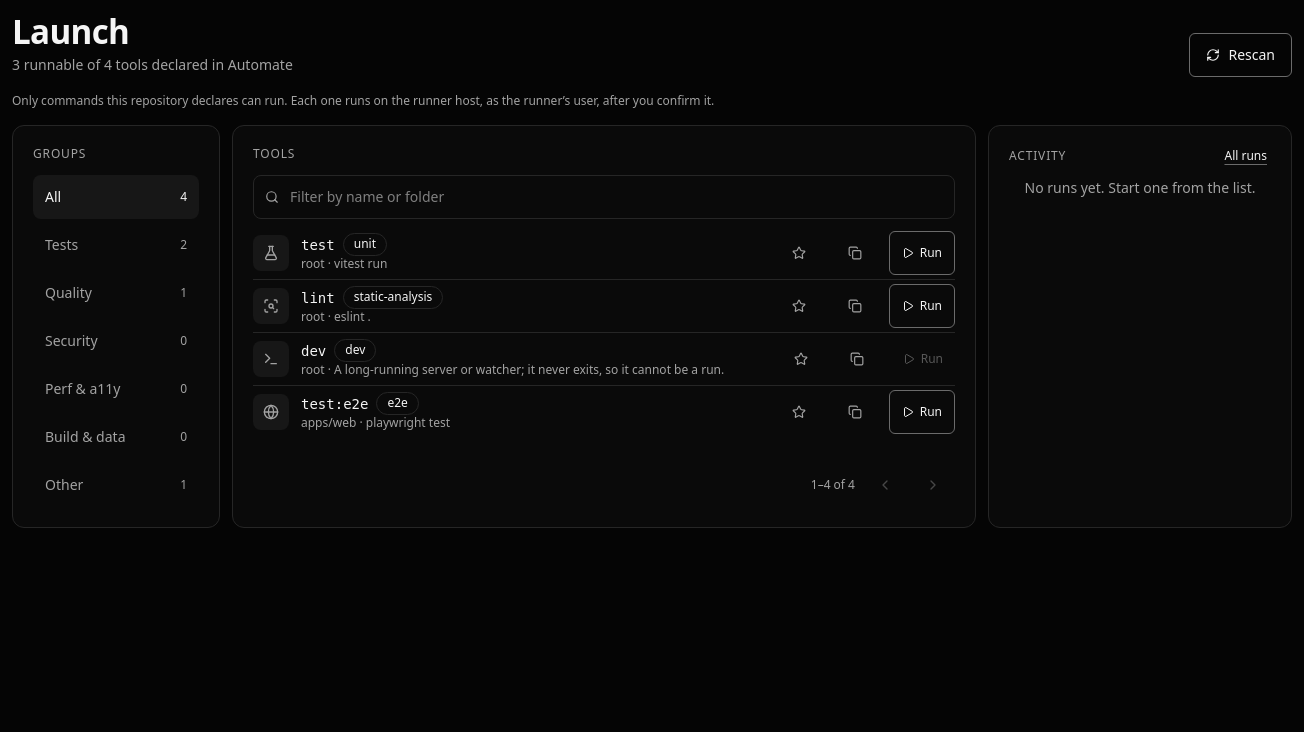
Test: the runner, as a daily tool › copies the command line of a tool
Expected: the list item with test id "tool-script:.:lint" is shown, [253,280,955,333]
Click the button named "Copy pnpm run lint" at (855, 306), box [833,284,877,328]
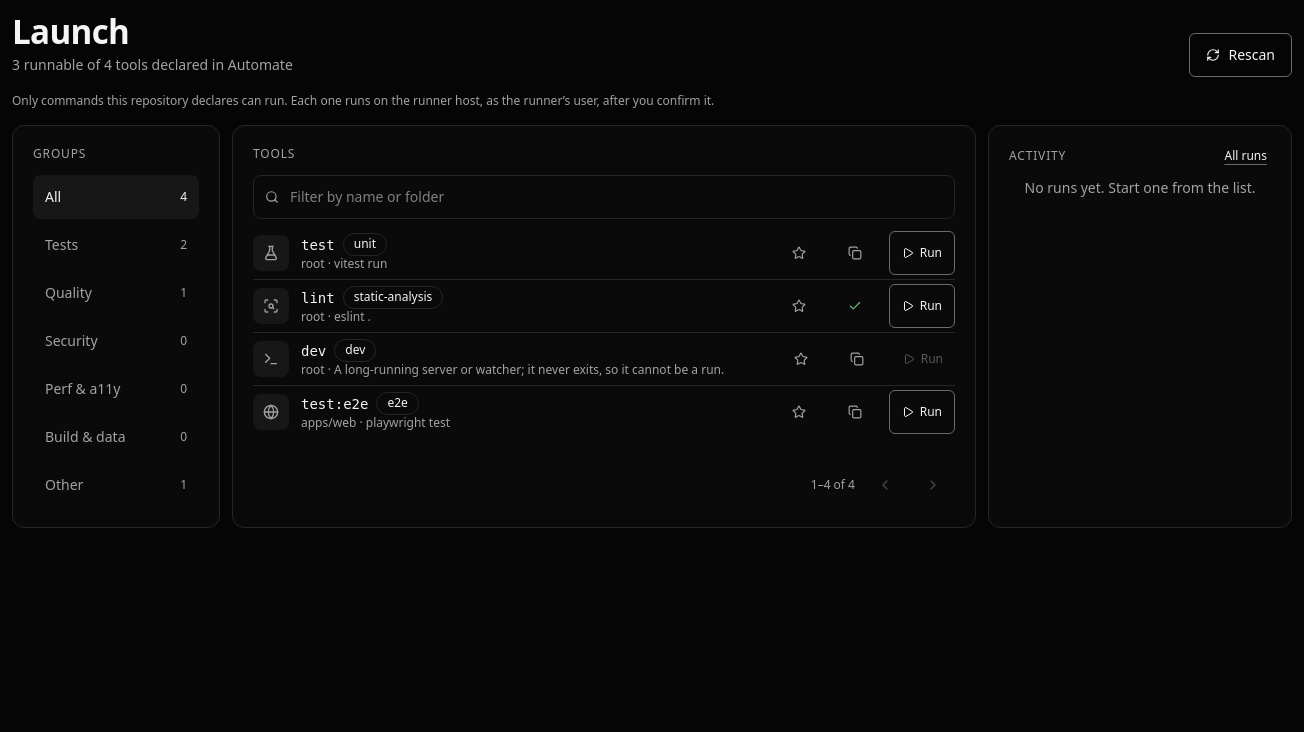
Now the button named "Copied pnpm run lint" is shown, box [833,284,877,328]
